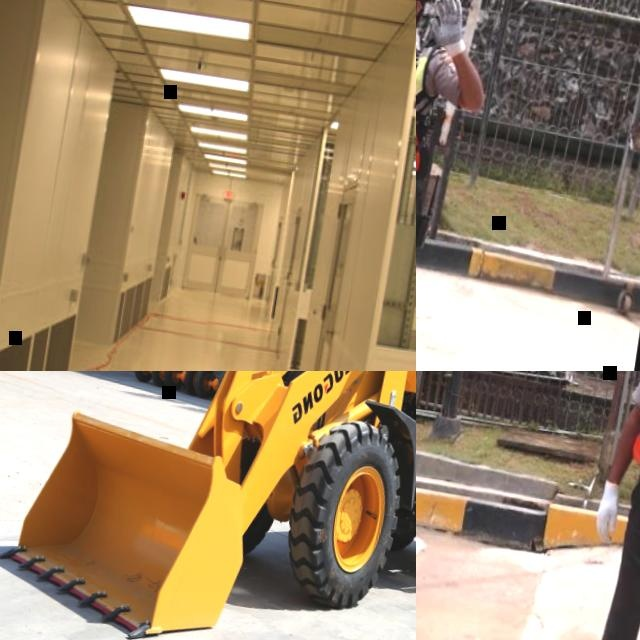Person: (416, 0, 506, 371), (557, 371, 640, 640)
Safety Vest: (416, 35, 440, 187)
machinery: (0, 371, 416, 640), (191, 371, 281, 404)
